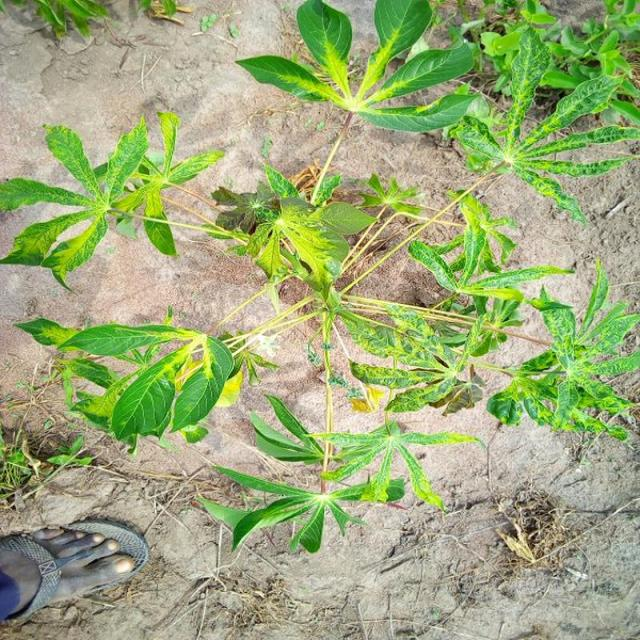cassava leaf: (1, 1, 638, 558)
